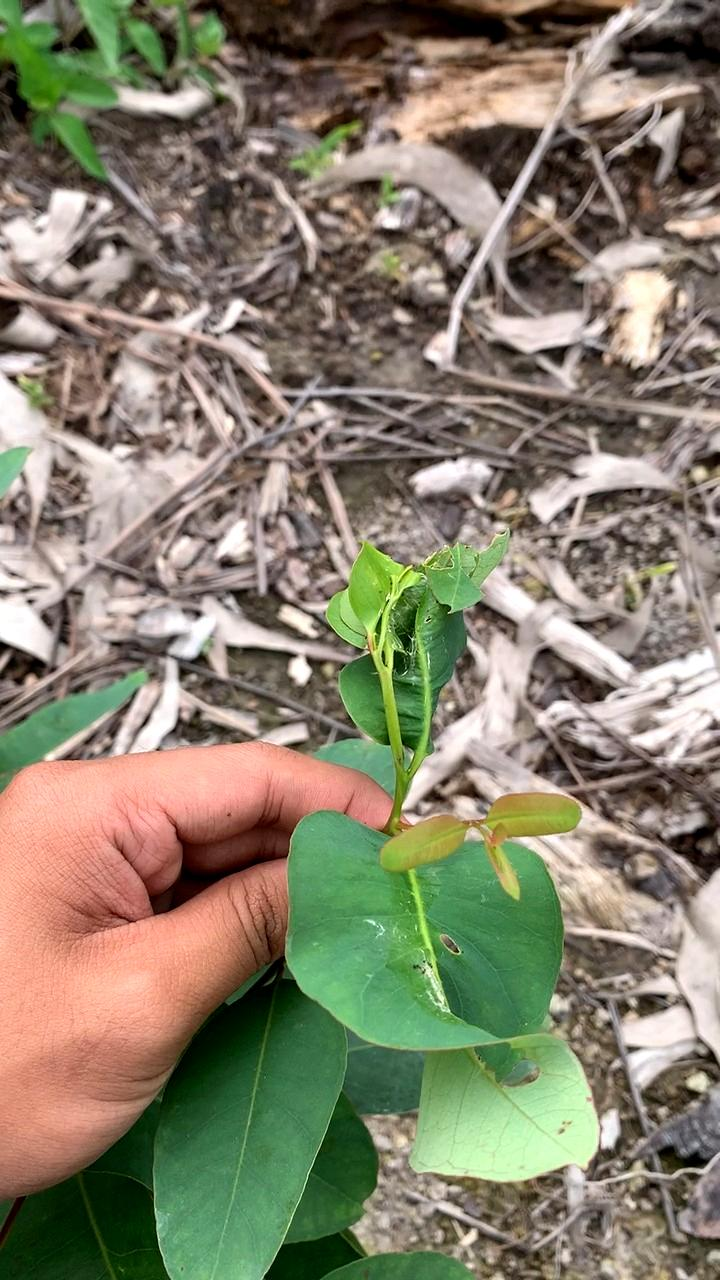Leaf Roller - Leaf: (306, 541, 521, 761)
